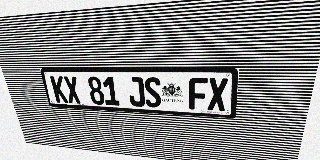1: (101, 77, 120, 106)
8: (87, 76, 105, 105)
F: (189, 77, 208, 110)
J: (127, 77, 145, 107)
K: (50, 76, 69, 103)
S: (143, 77, 162, 108)
X: (207, 78, 228, 111), (63, 76, 81, 104)
